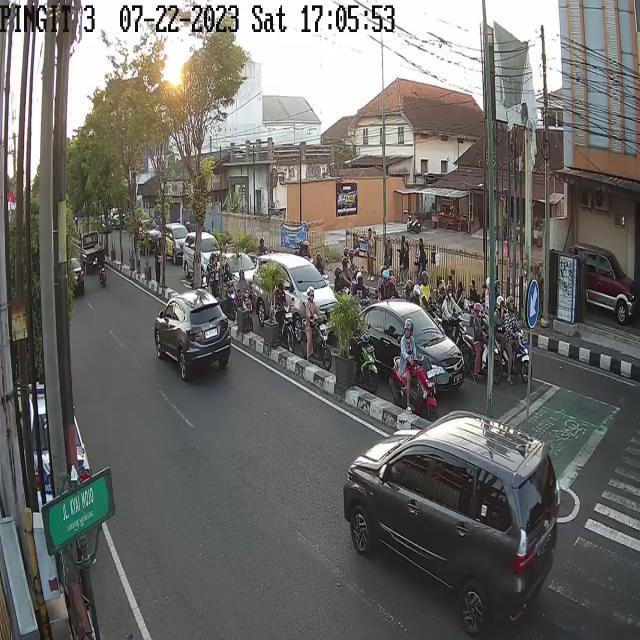car: (342, 407, 560, 639), (355, 296, 466, 392), (252, 256, 338, 345), (156, 285, 234, 383), (574, 244, 637, 327), (180, 230, 221, 275), (63, 257, 87, 301), (133, 216, 162, 251), (167, 224, 187, 252)
motorcycle: (392, 311, 432, 425), (491, 289, 532, 382), (461, 300, 502, 386), (301, 292, 330, 372), (346, 313, 377, 383), (269, 276, 290, 350), (231, 268, 252, 336), (97, 246, 107, 290)
truck: (80, 230, 106, 274)
